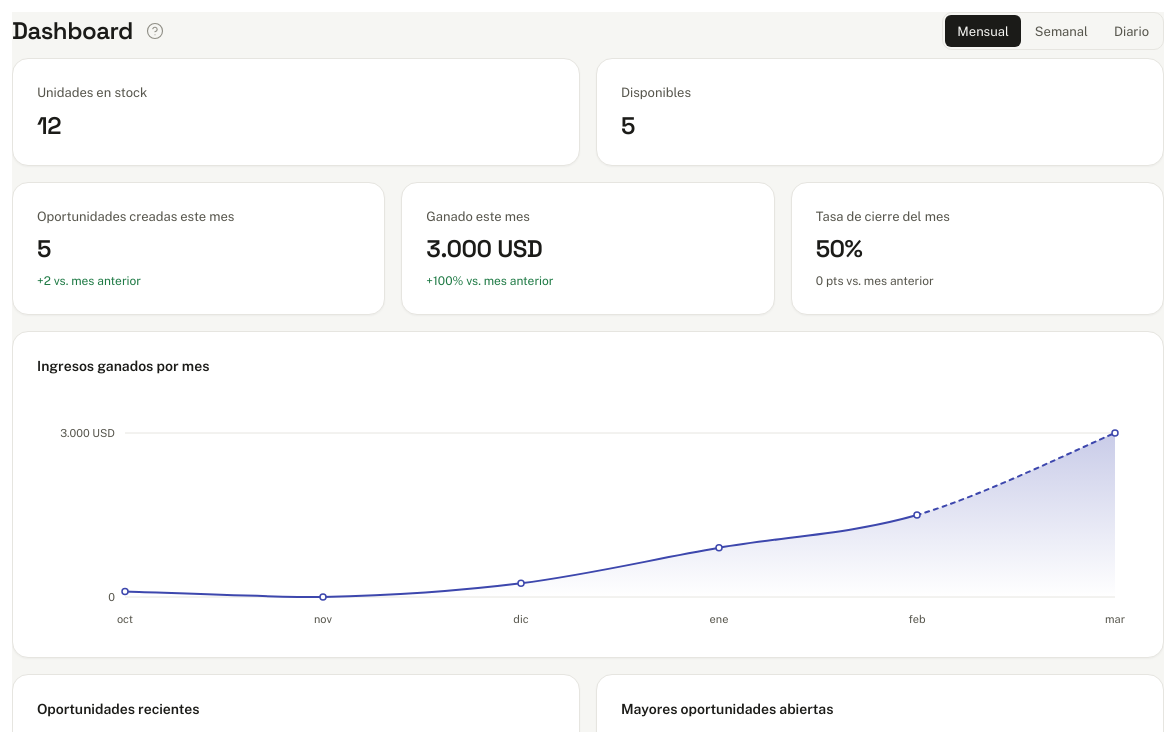
DashboardPage — render general y estados › elegir Semanal mueve las 3 KPI que siguen al período Y el gráfico, con un request por endpoint
Expected: the text "3.000 USD" is shown, [426,233,542,264]
Expected: the text "Ganado este mes" is shown, [426,208,530,224]
Click the button "Semanal".
click(1061, 31)  # box [1023,15,1100,47]
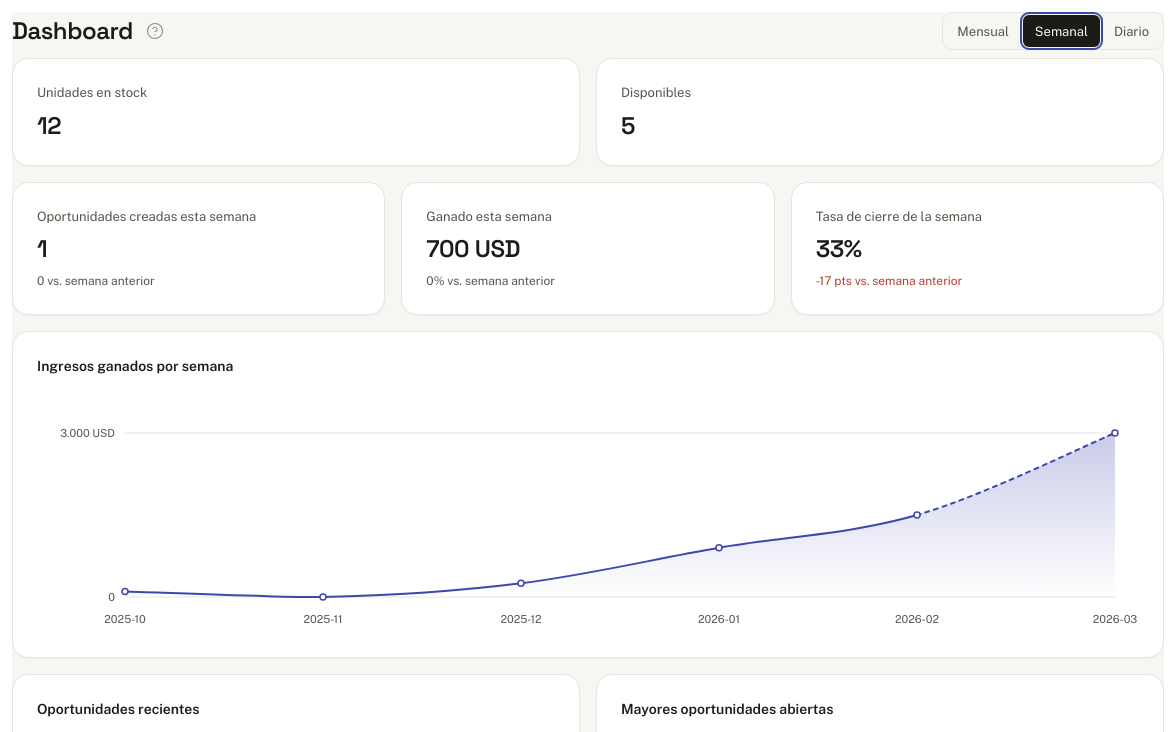
Expected: the text "700 USD" is shown, [426,233,520,264]
Expected: the text "Ganado esta semana" is shown, [426,208,552,224]
Expected: the text "Oportunidades creadas esta semana" is shown, [37,208,256,224]
